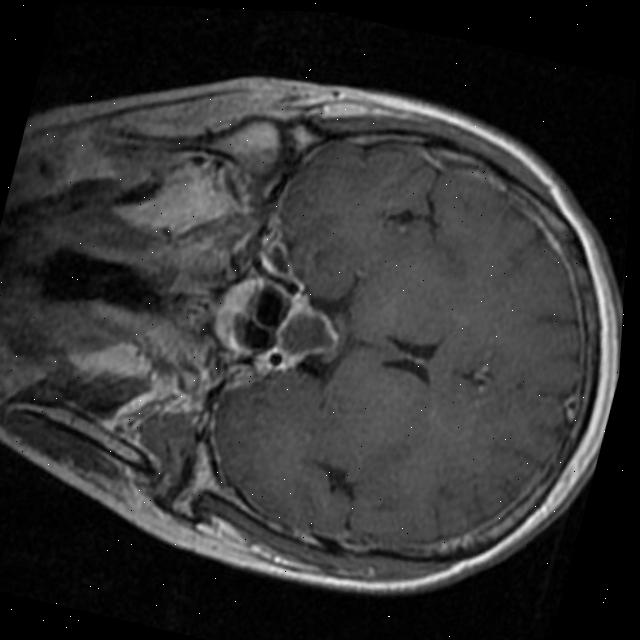Pituitary: (269, 301, 346, 369)
